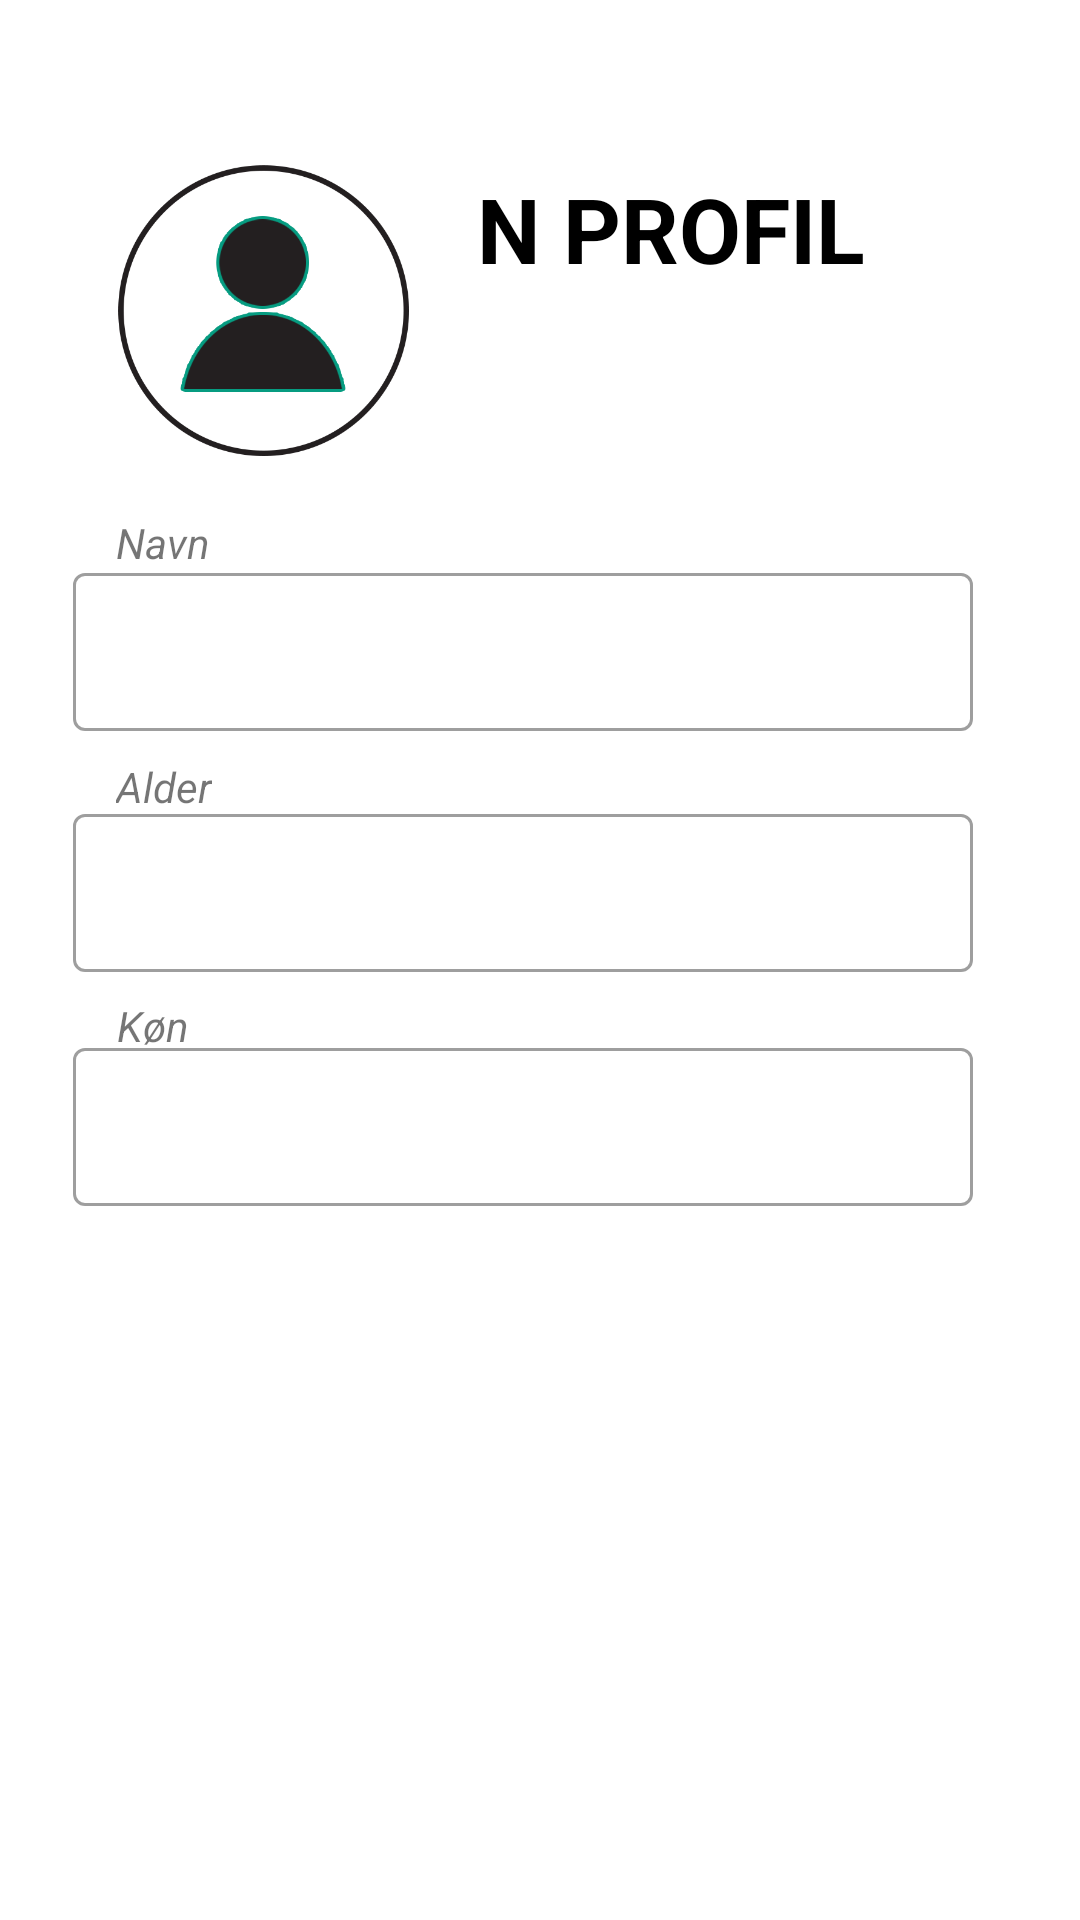

Icons on this 1080 x 1920 Android screen, each with its box as (x1, y1, x2, y2):
profilny: (118, 165, 409, 456)
